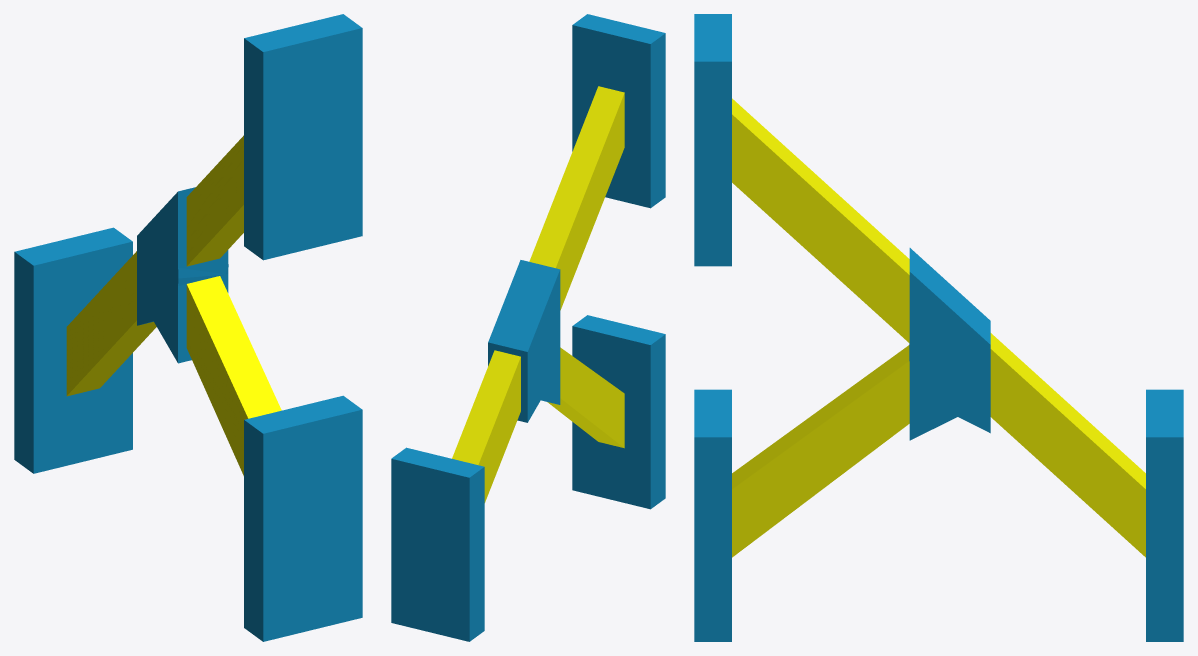
Rendered from PlatformSupport.fbx.
3 renders of one model, left to right at view 1: azimuth 30°, elevation 25°; view 2: azimuth 150°, elevation 25°; view 3: azimuth 270°, elevation 25°, orthographic. The views are drawn at different scales.
Visible parts, largest first — view 1: PlatformSupport; view 2: PlatformSupport; view 3: PlatformSupport.
Boxes of the visible parts, x1,y1,x2,y2 form: PlatformSupport: (14, 14, 362, 641); PlatformSupport: (391, 14, 665, 641); PlatformSupport: (694, 14, 1183, 641).
Bounding box in the file's own units: 302 × 1714 × 1311.
